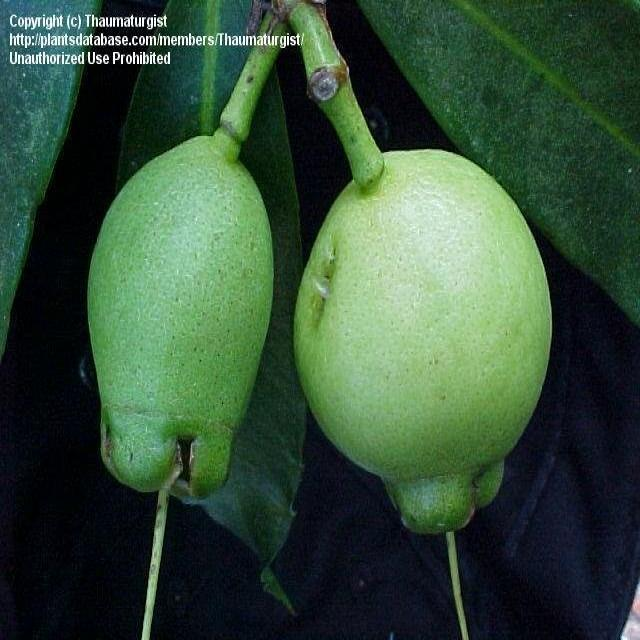Medicinal-Rose Apple: (1, 61, 640, 639)
